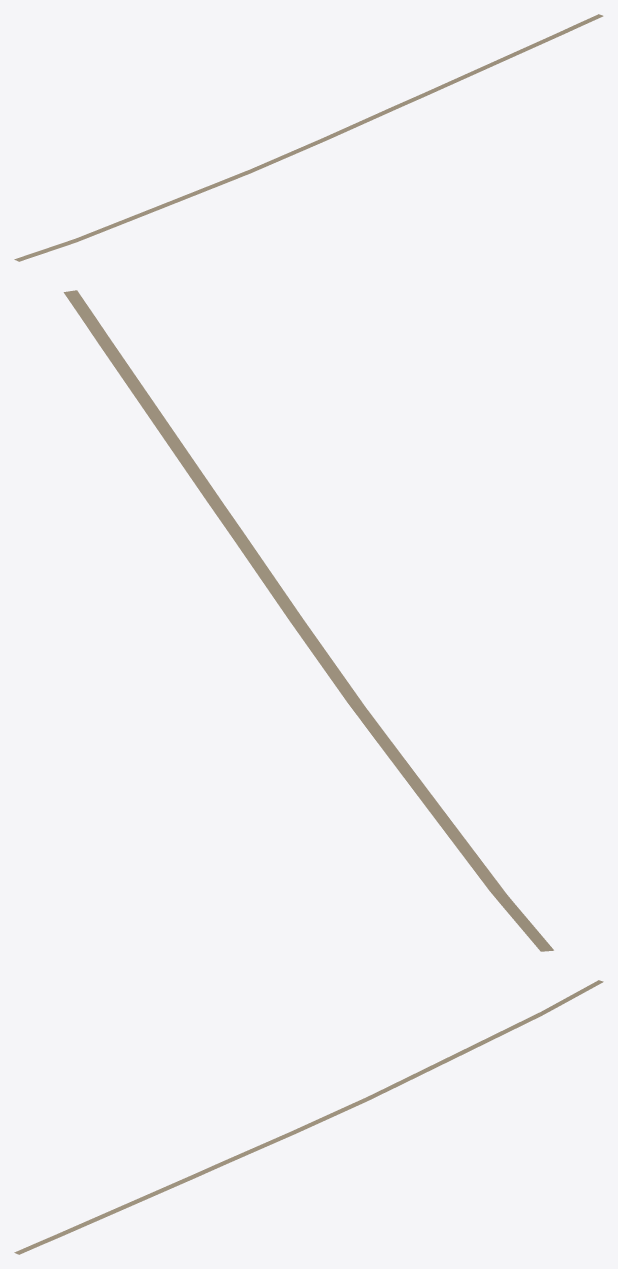
File: farm_-5_2_track.glb
The picture shows the model from 3 angles, top to bottom: view 1: azimuth 90°, elevation 25°; view 2: azimuth 150°, elevation 25°; view 3: azimuth 270°, elevation 25°; orthographic projection. The views are drawn at different scales.
Visible parts, largest first — view 1: geometry_0; view 2: geometry_0; view 3: geometry_0.
Part boxes in pixels (x1,y1,x2,y2): geometry_0: [14, 14, 603, 261]; geometry_0: [63, 290, 553, 951]; geometry_0: [14, 980, 603, 1254].
Size of the model in its own units: 285 by 7.85 by 272.
